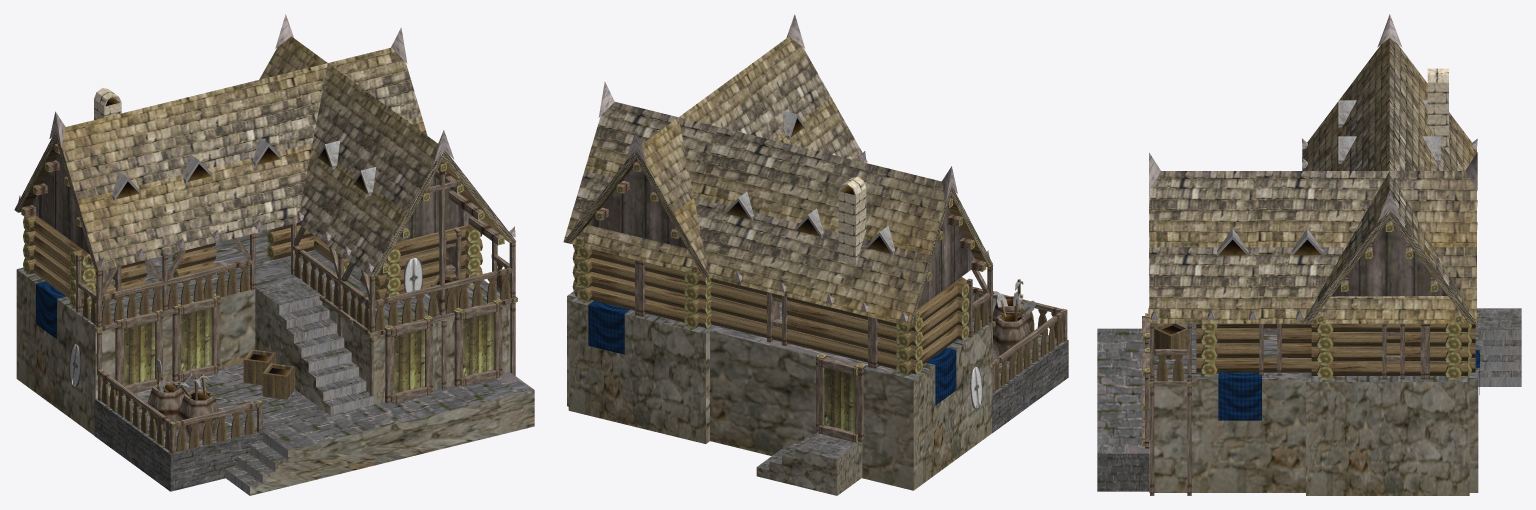
3 views of the same model, side by side, from view 1: azimuth 30°, elevation 25°; view 2: azimuth 150°, elevation 25°; view 3: azimuth 270°, elevation 25° (orthographic). The views are drawn at different scales.
Parts seen in each view (by area): view 1: cc; view 2: cc; view 3: cc.
Boxes of the visible parts, x1,y1,x2,y2 form: cc: (14, 14, 534, 495); cc: (563, 14, 1068, 495); cc: (1097, 14, 1521, 495).
Bounding box in the file's own units: 25.44 × 25.64 × 20.5.
